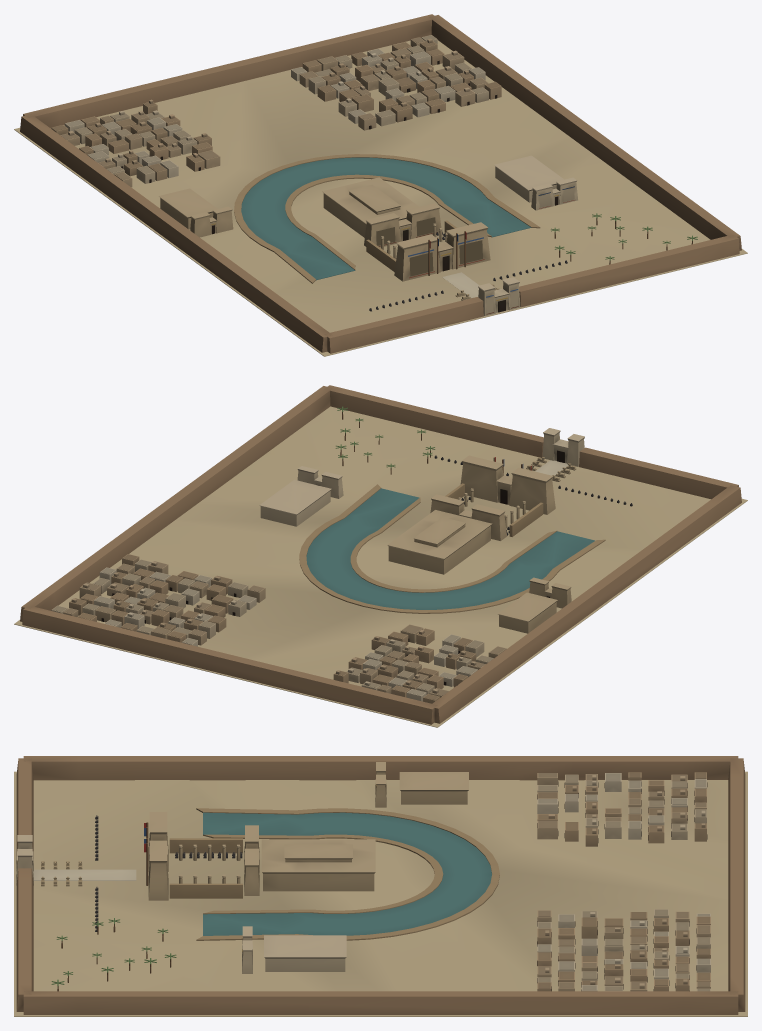
Rendered from mut-precinct.glb.
3 renders of one model, top to bottom at view 1: azimuth 30°, elevation 25°; view 2: azimuth 150°, elevation 25°; view 3: azimuth 270°, elevation 25°, orthographic. The views are drawn at different scales.
Parts seen in each view (by area): view 1: p0_lake, p3_houses, p1_temple; view 2: p0_lake, p3_houses, p1_temple; view 3: p0_lake, p3_houses, p1_temple, p2_courts.
Boxes of the visible parts, left/top/right/bottom form: p0_lake: left=14, top=14, right=747, bottom=356; p3_houses: left=51, top=35, right=697, bottom=311; p1_temple: left=159, top=155, right=577, bottom=315; p0_lake: left=14, top=385, right=747, bottom=727; p3_houses: left=51, top=406, right=632, bottom=703; p1_temple: left=259, top=428, right=584, bottom=633; p0_lake: left=14, top=756, right=747, bottom=1016; p3_houses: left=41, top=772, right=710, bottom=991; p1_temple: left=16, top=762, right=468, bottom=973; p2_courts: left=179, top=844, right=240, bottom=883.
Size of the model in its own units: 260 by 21.23 by 330.
